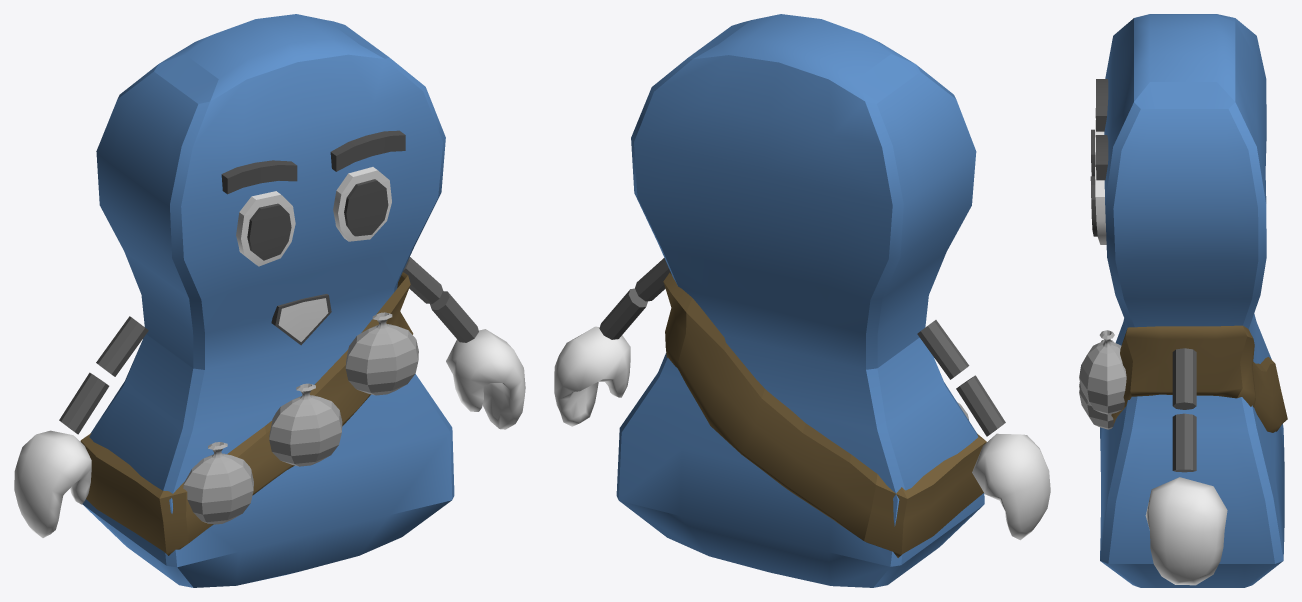
3 views of the same model, side by side, from view 1: azimuth 30°, elevation 25°; view 2: azimuth 150°, elevation 25°; view 3: azimuth 270°, elevation 25° (orthographic).
Visible parts, largest first — view 1: pCube5; view 2: pCube5; view 3: pCube5.
Part boxes in pixels (x1,y1,x2,y2): pCube5: [14, 14, 525, 587]; pCube5: [554, 14, 1050, 587]; pCube5: [1079, 14, 1287, 587].
Bounding box in the file's own units: 58.41 × 60.32 × 21.7.
